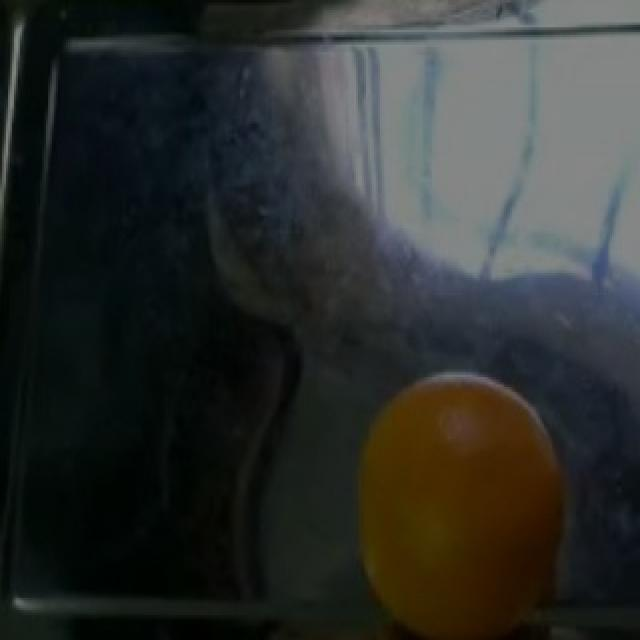Fruit: (322, 357, 580, 640)
